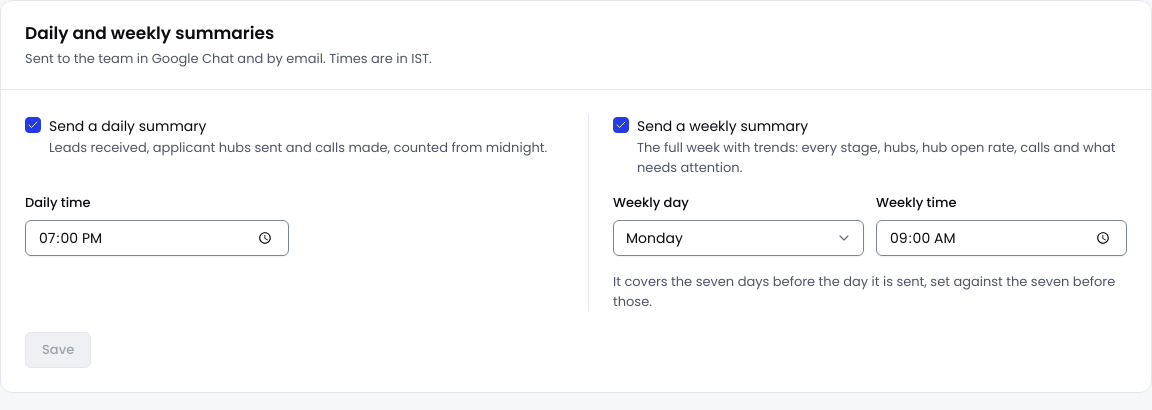
it: DigestCard › lets either summary be switched off, which disables its time
Click the checkbox labelled "Send a daily summary" at (294, 146), box left=25, top=114, right=564, bottom=178
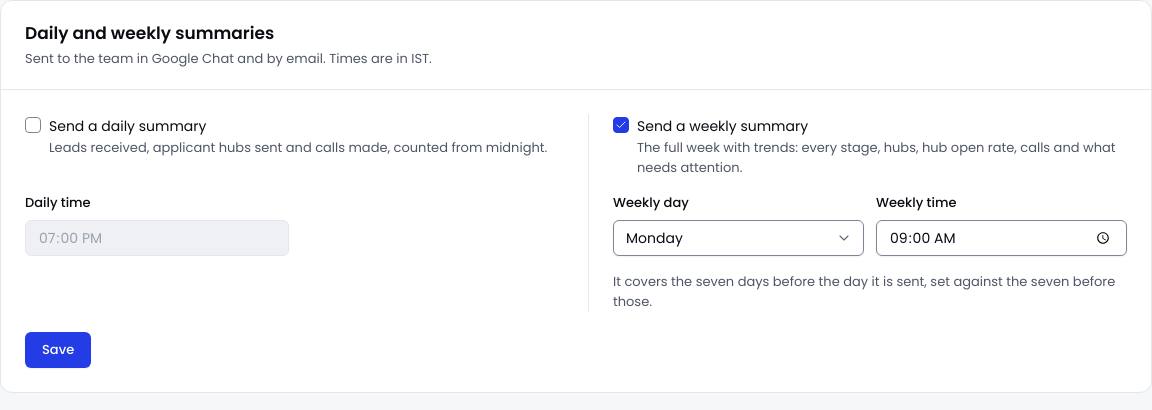
Expected: the time field labelled "Weekly time" is enabled, left=876, top=220, right=1127, bottom=256
Expected: the time field labelled "Daily time" is disabled, left=25, top=220, right=288, bottom=256
